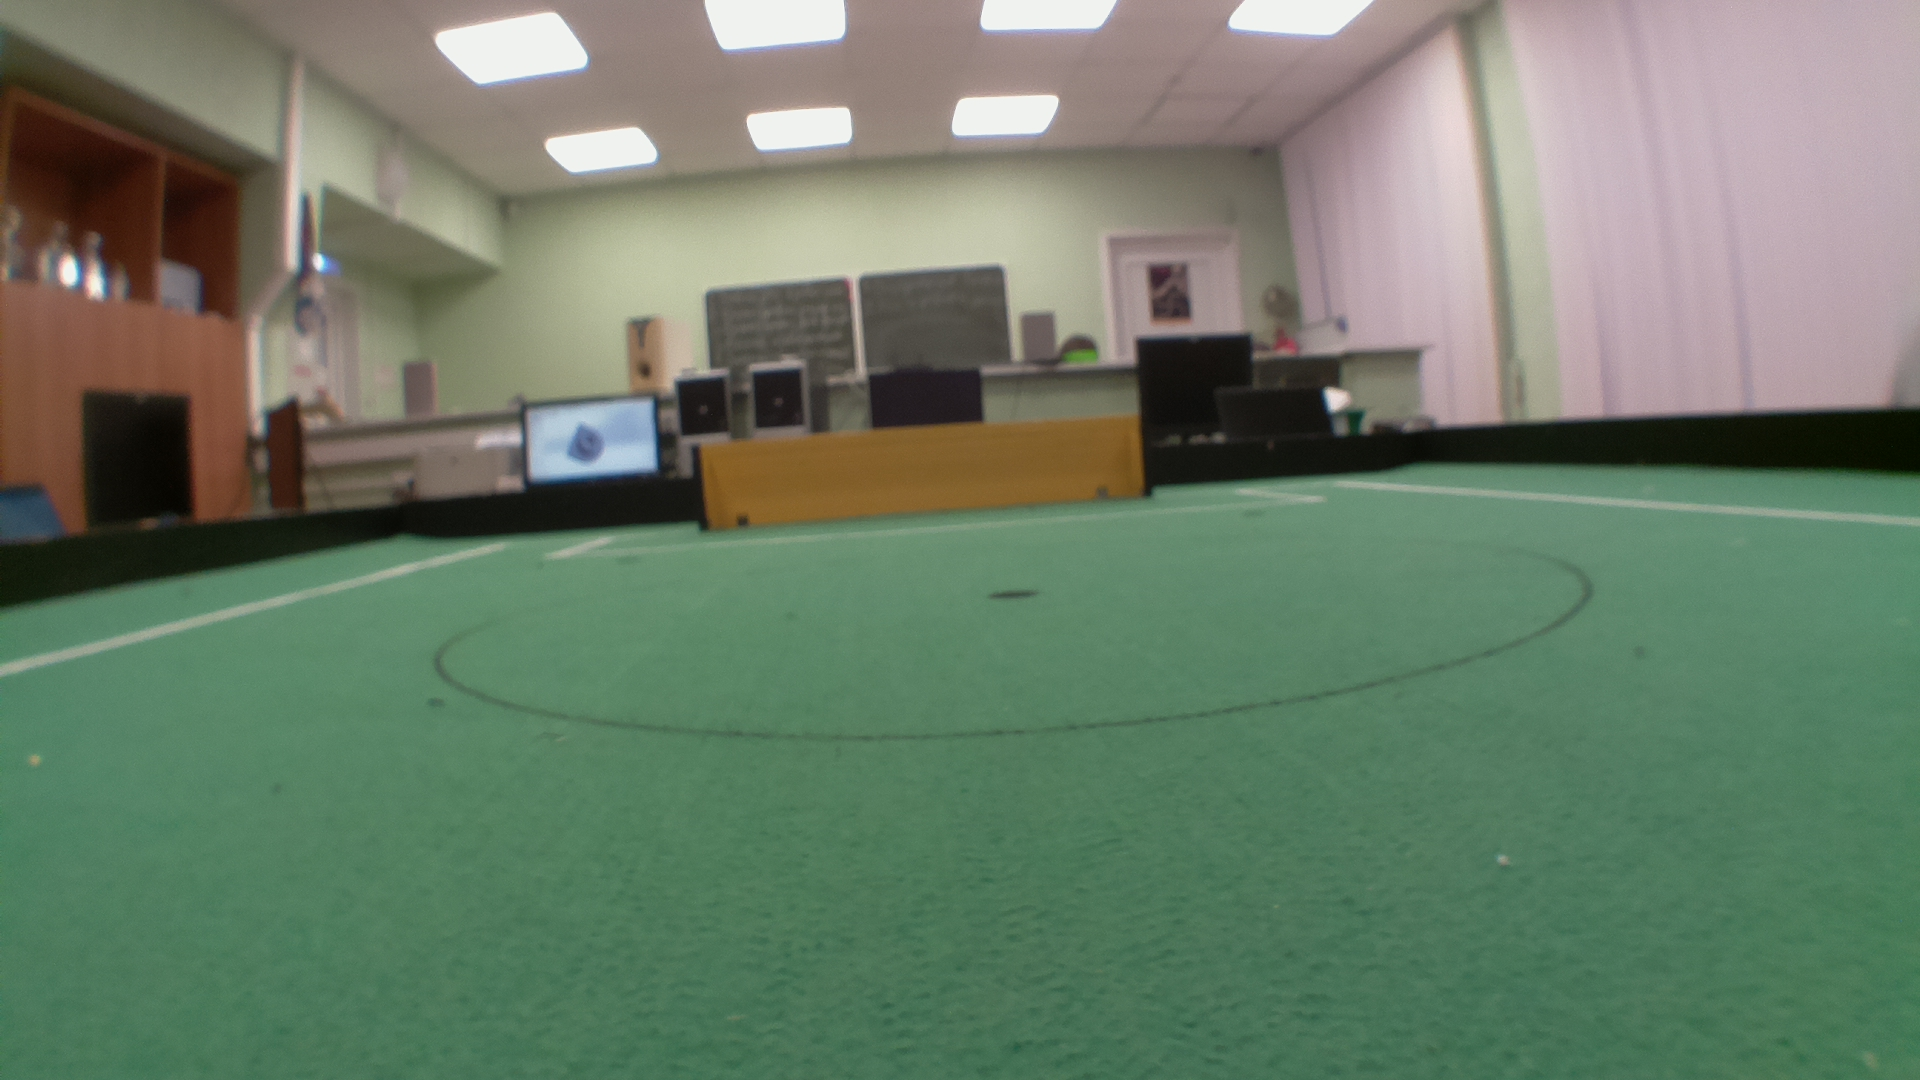YellowGoal: (694, 419, 1141, 531)
